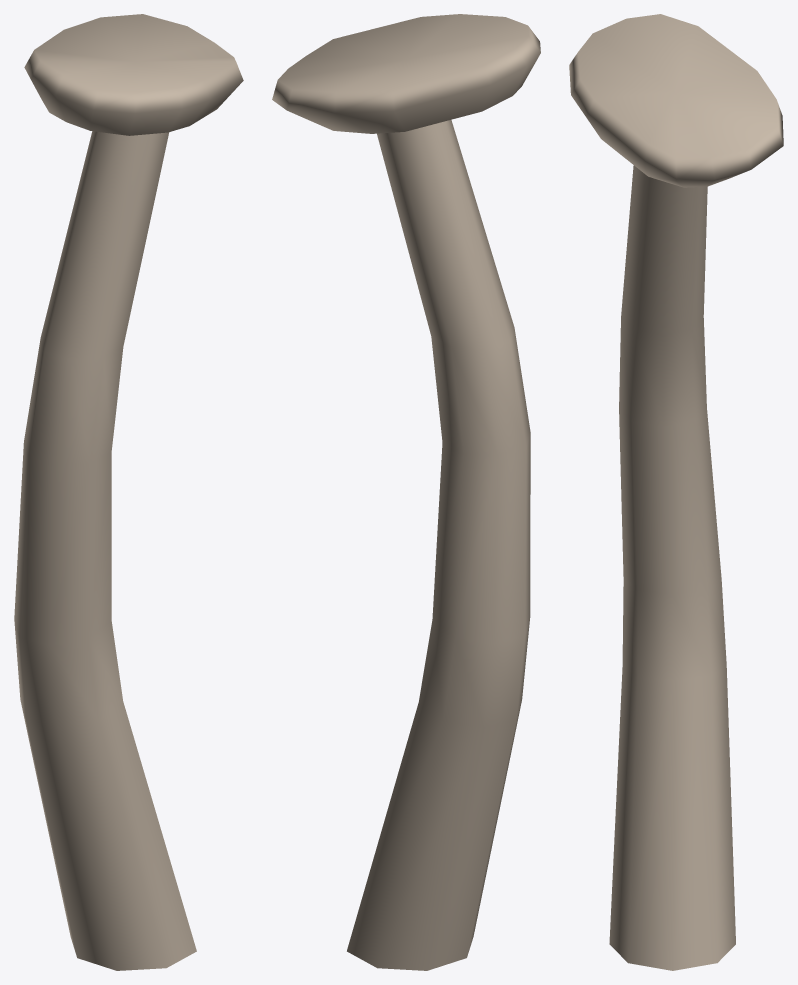
Rendered from SM_LAND_Cave_BigMushroom_02_B.fbx.
3 views of the same model, side by side, from view 1: azimuth 30°, elevation 25°; view 2: azimuth 150°, elevation 25°; view 3: azimuth 270°, elevation 25° (orthographic). The views are drawn at different scales.
Visible parts, largest first — view 1: SM_LAND_Cave_BigMushroom_02_B; view 2: SM_LAND_Cave_BigMushroom_02_B; view 3: SM_LAND_Cave_BigMushroom_02_B.
Boxes of the visible parts, x1,y1,x2,y2 form: SM_LAND_Cave_BigMushroom_02_B: (14,14,243,970); SM_LAND_Cave_BigMushroom_02_B: (272,14,540,970); SM_LAND_Cave_BigMushroom_02_B: (569,14,783,970).
Size of the model in its own units: 21.69 by 84.56 by 18.62.
